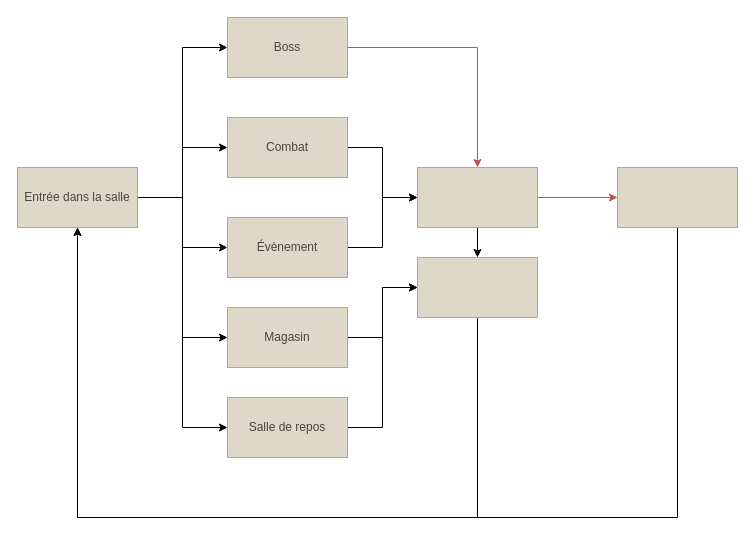
Image size: 755x543. Some labels were removed from this diagram. Each missing label, with the centre of its shape:
Changement de niveau: (x=677, y=197)
Récompense: (x=477, y=197)
Sélection d'une nouvelle salle: (x=477, y=287)
